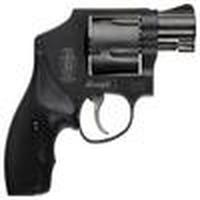gun: (12, 5, 197, 191)
